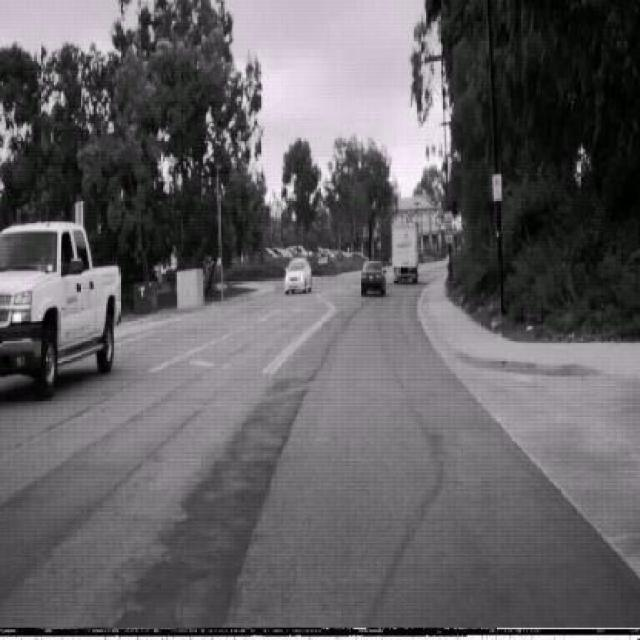schoolSpeedLimit25: (443, 212, 454, 243)
